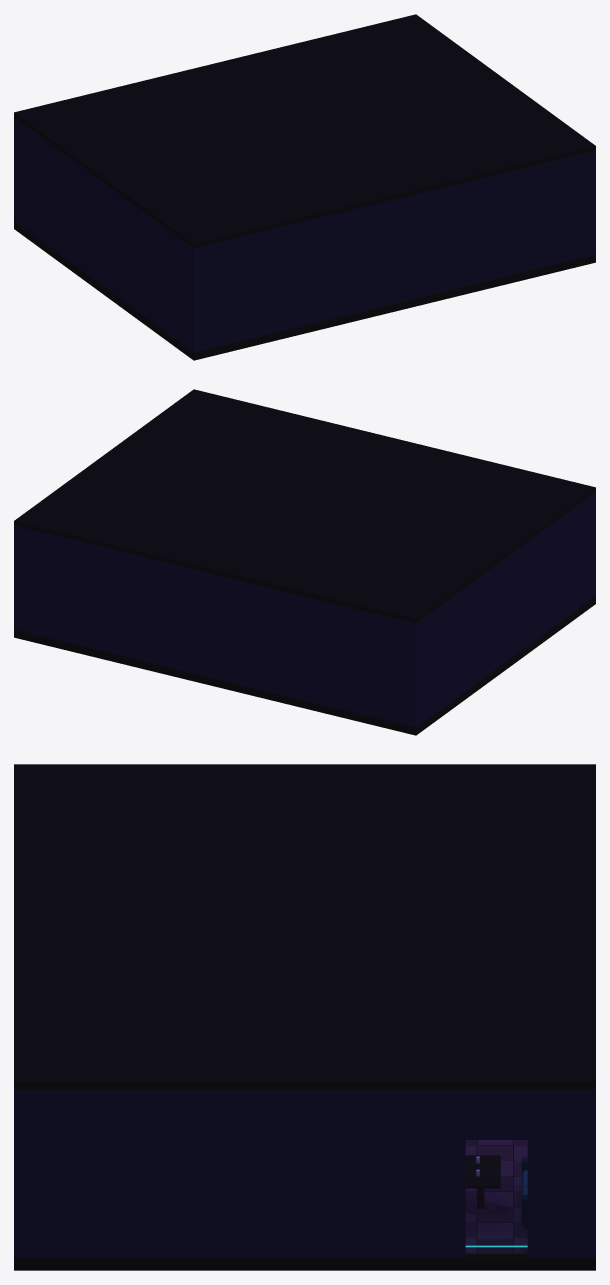
File: neon-salon.9b25c7e40cfd.glb
The picture shows the model from 3 angles, top to bottom: view 1: azimuth 30°, elevation 25°; view 2: azimuth 150°, elevation 25°; view 3: azimuth 270°, elevation 25°; orthographic projection. The views are drawn at different scales.
Parts seen in each view (by area): view 1: ceiling, wall_S, wall_W, floor; view 2: ceiling, wall_N, wall_W, floor; view 3: ceiling, wall_E, floor, room, wall_N, wall_S.
Part boxes in pixels (x1=…): ceiling: x1=14, y1=14, x2=595, y2=248; wall_S: x1=191, y1=150, x2=595, y2=352; wall_W: x1=16, y1=119, x2=190, y2=350; floor: x1=14, y1=221, x2=595, y2=360; ceiling: x1=14, y1=389, x2=595, y2=623; wall_N: x1=14, y1=525, x2=418, y2=727; wall_W: x1=419, y1=494, x2=593, y2=725; floor: x1=14, y1=596, x2=595, y2=735; ceiling: x1=14, y1=764, x2=595, y2=1088; wall_E: x1=23, y1=1089, x2=586, y2=1257; floor: x1=14, y1=1140, x2=595, y2=1270; room: x1=465, y1=1155, x2=527, y2=1228; wall_N: x1=587, y1=1089, x2=595, y2=1257; wall_S: x1=14, y1=1089, x2=22, y2=1257.
Size of the model in its own units: 13.32 by 3.69 by 10.32.
